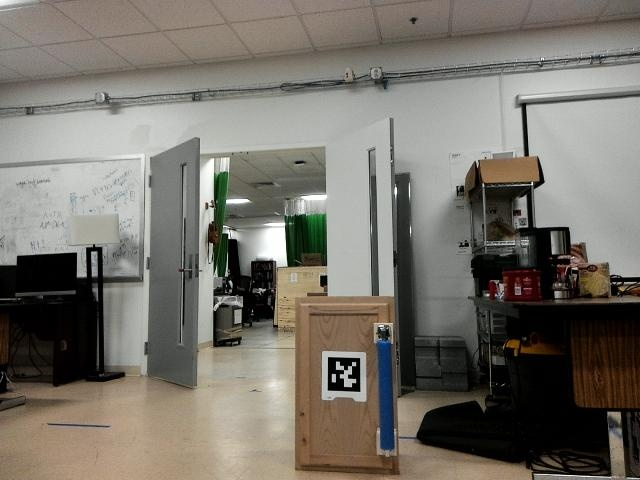noodle_handle: (374, 338, 397, 453)
